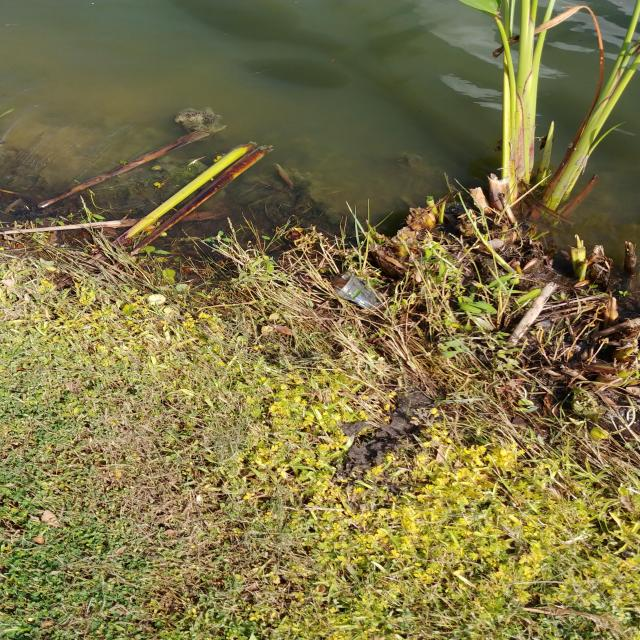litter: (329, 270, 388, 311)
